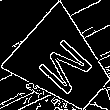M_SE: (30, 30, 97, 98)
